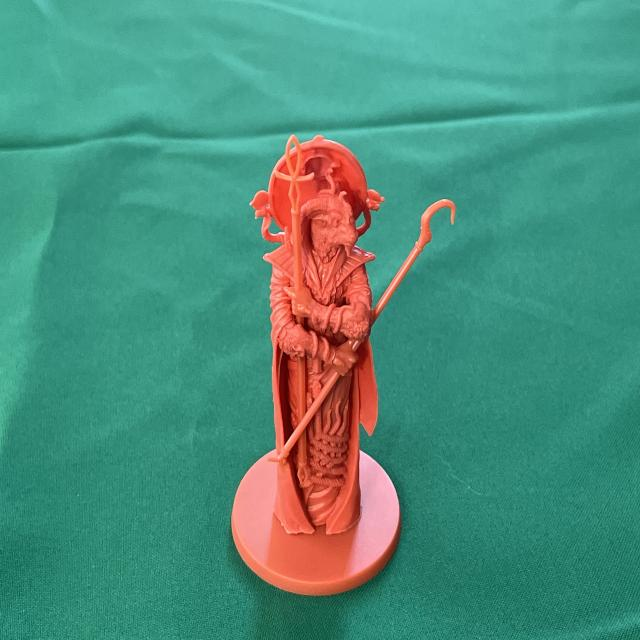amon: (223, 131, 458, 604)
